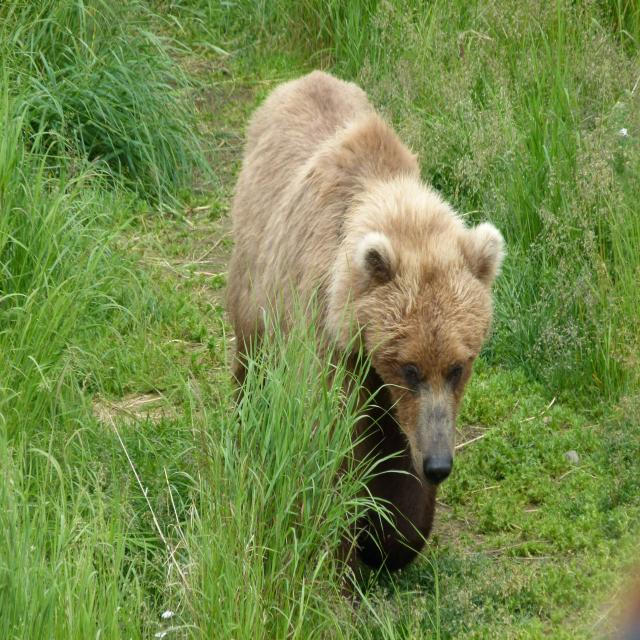bear face: (231, 66, 504, 482)
